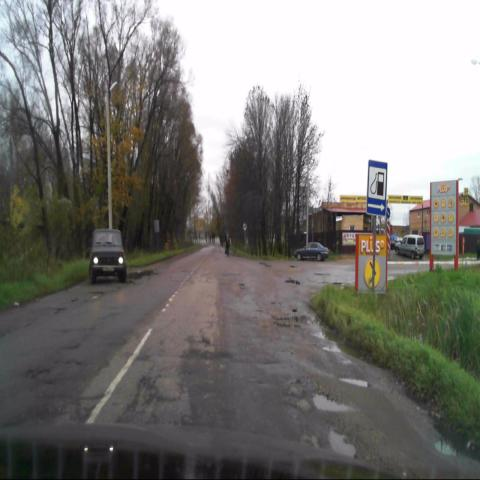7_3: (366, 160, 387, 219)
